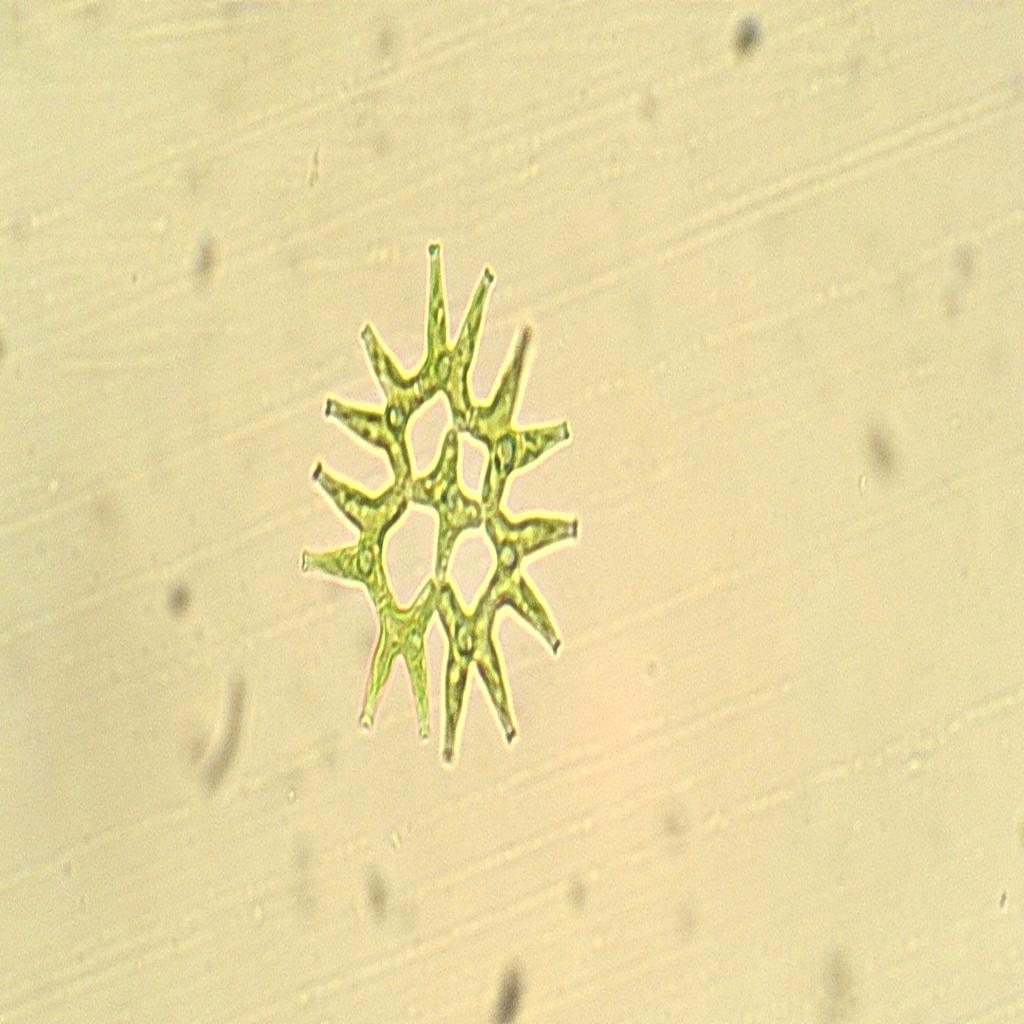Pediastrum_75T: (289, 223, 588, 771)
